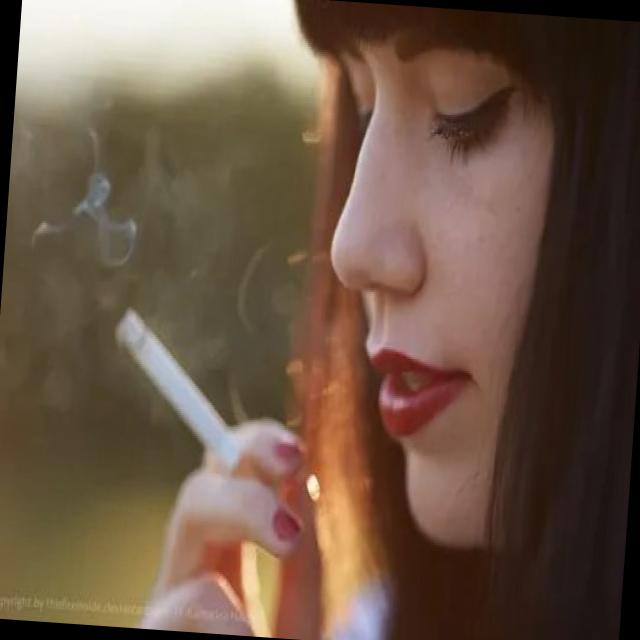smoke: (99, 294, 298, 516)
